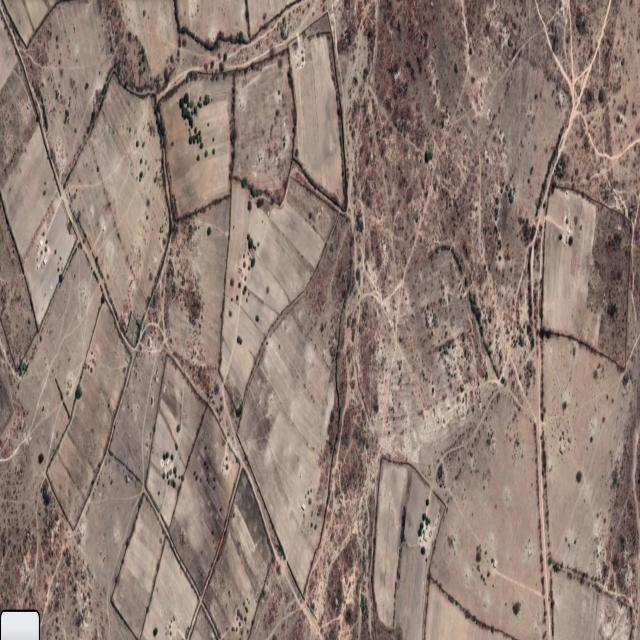boundaries: (239, 216, 339, 404), (139, 344, 209, 538), (148, 361, 200, 521), (61, 69, 113, 200), (201, 462, 244, 601), (227, 73, 238, 195)
